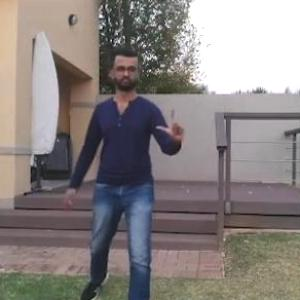land_hand: (153, 101, 192, 147)
